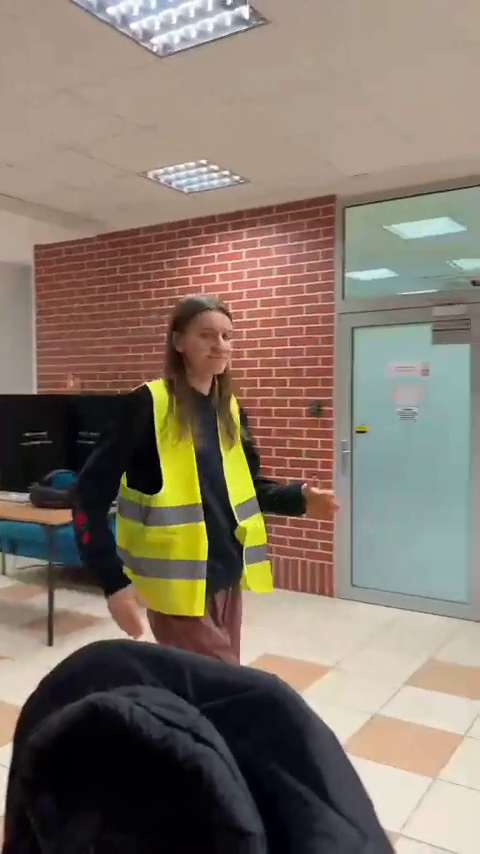vest: (69, 296, 329, 676)
